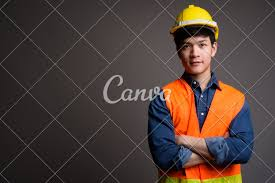Person_wearing_helmet: (166, 2, 220, 50)
